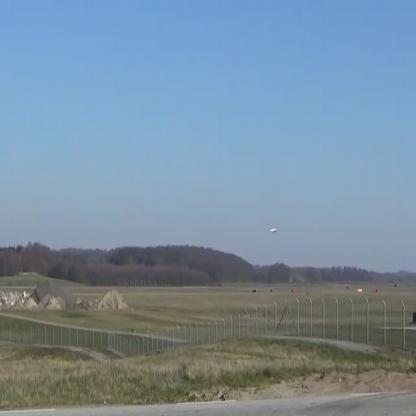CIV_Plane: (266, 224, 282, 236)
